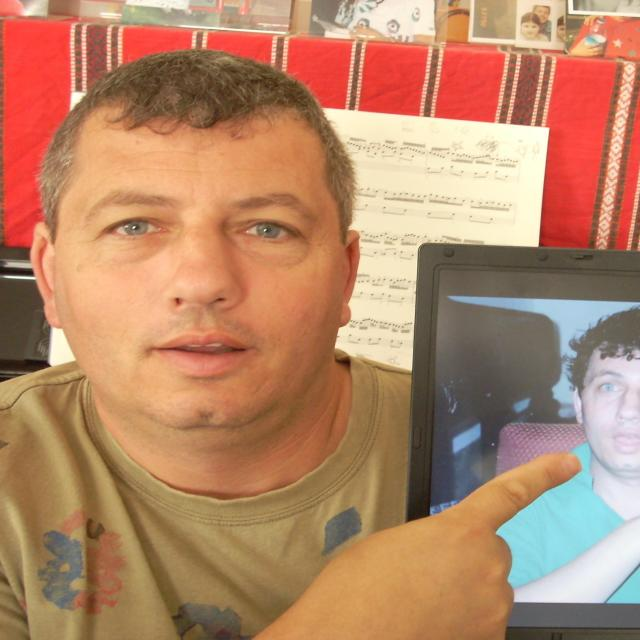no-glass: (100, 214, 304, 240)
